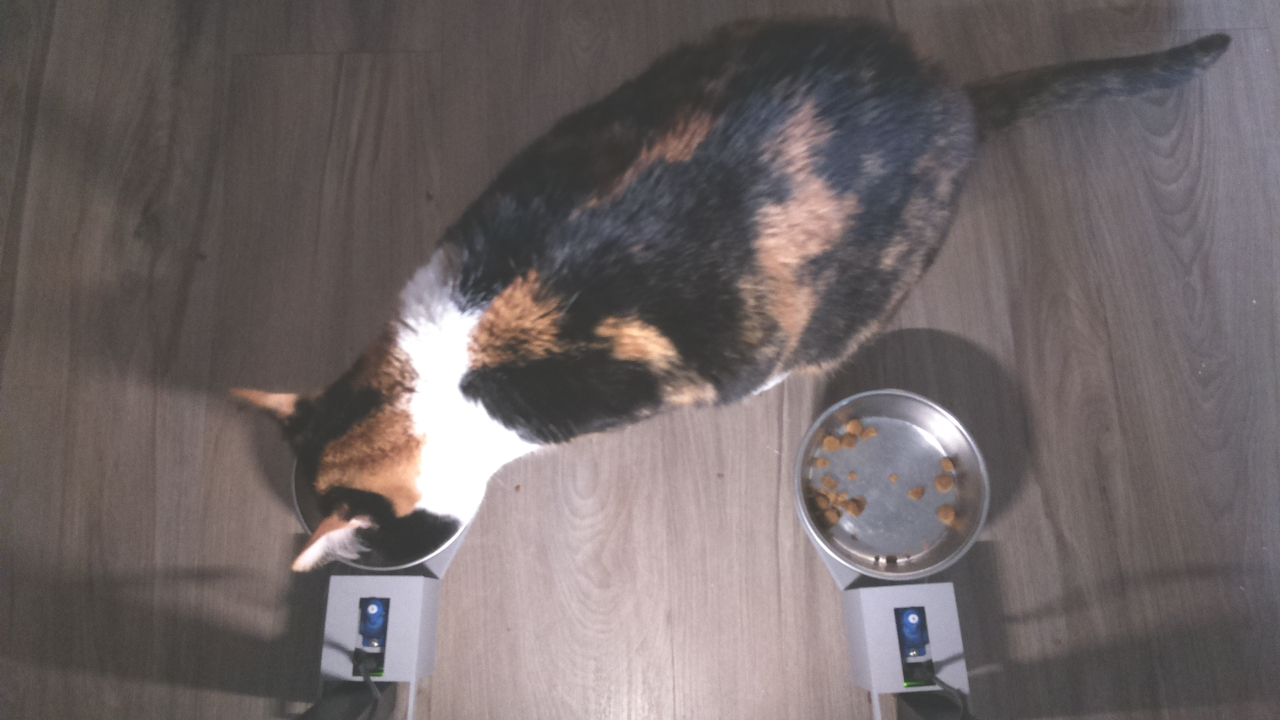bella_eating: (226, 284, 515, 585)
open_bowl: (789, 384, 991, 589)
